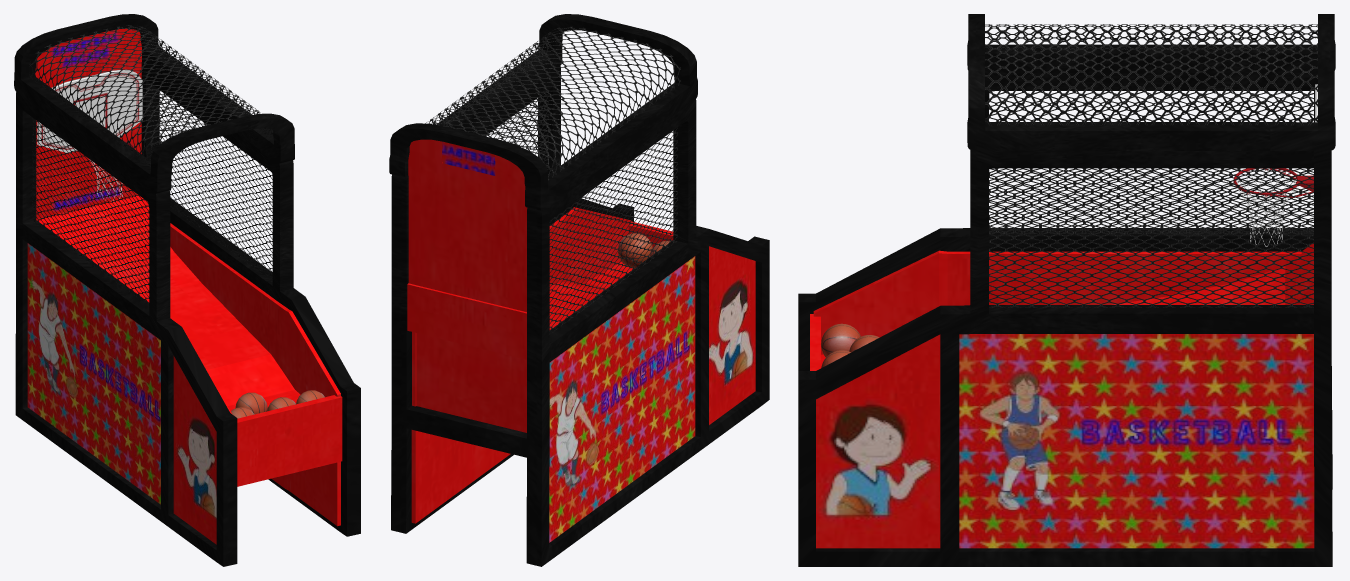
The model's file is canasta.glb.
The picture shows the model from 3 angles, left to right: view 1: azimuth 30°, elevation 25°; view 2: azimuth 150°, elevation 25°; view 3: azimuth 270°, elevation 25°; orthographic projection. The views are drawn at different scales.
Parts seen in each view (by area): view 1: maquina; view 2: maquina; view 3: maquina.
Boxes of the visible parts, x1,y1,x2,y2 form: maquina: [14, 14, 360, 566]; maquina: [389, 14, 769, 566]; maquina: [798, 14, 1335, 566].
Size of the model in its own units: 0.9665 by 2.5 by 2.53.
7 materials, 7 textured.
